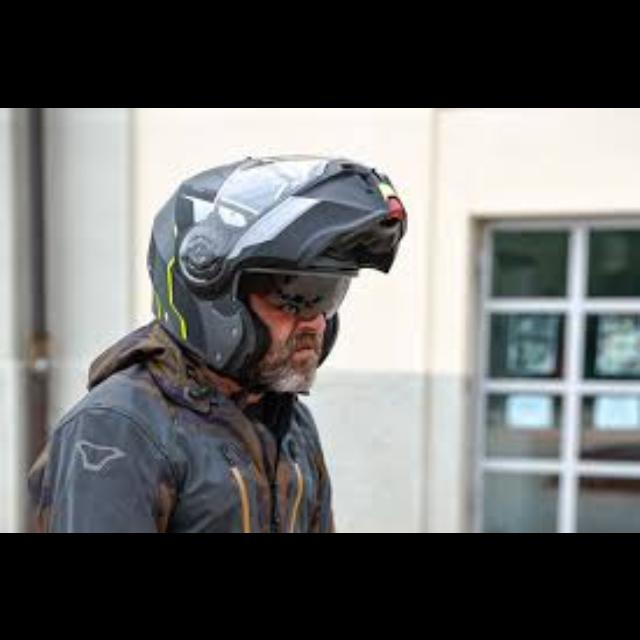motorcycle-helmets: (140, 152, 416, 406)
